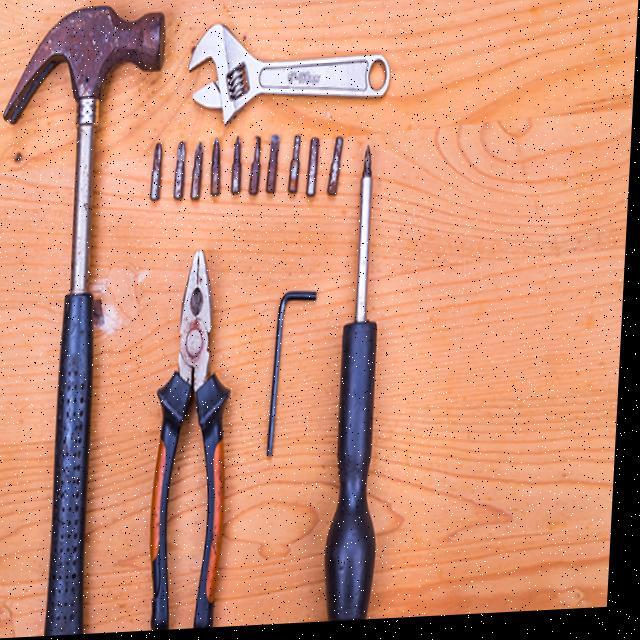Screwdriver: (156, 252, 235, 629), (331, 151, 382, 624)
